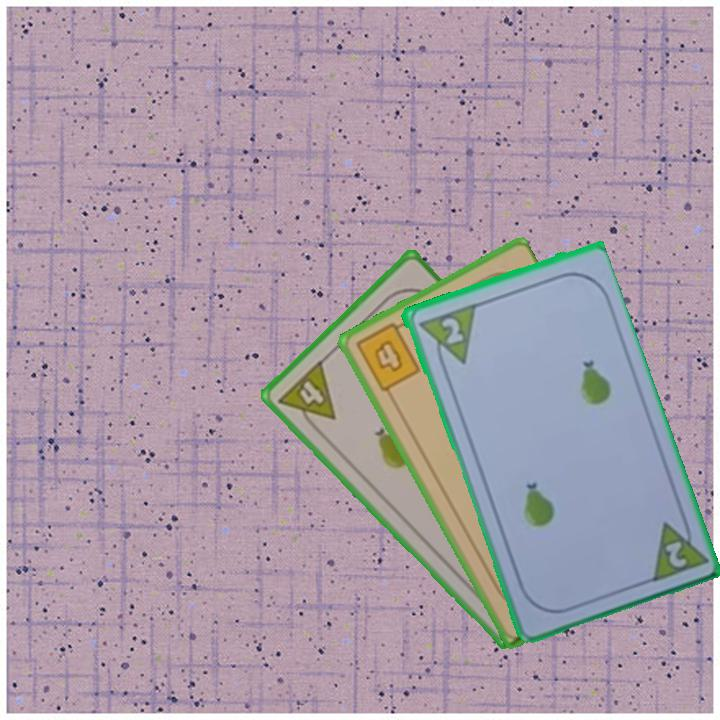2p: (645, 510, 708, 586), (414, 300, 478, 373)
4b: (351, 317, 423, 395)
4p: (274, 356, 339, 437)
